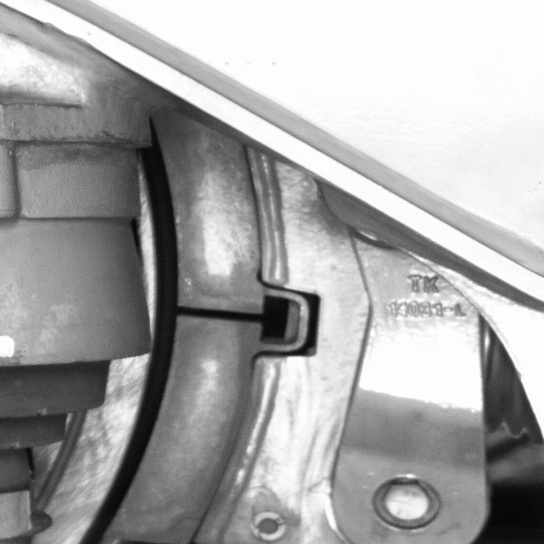KnifeSwitch: (72, 143, 285, 540)
